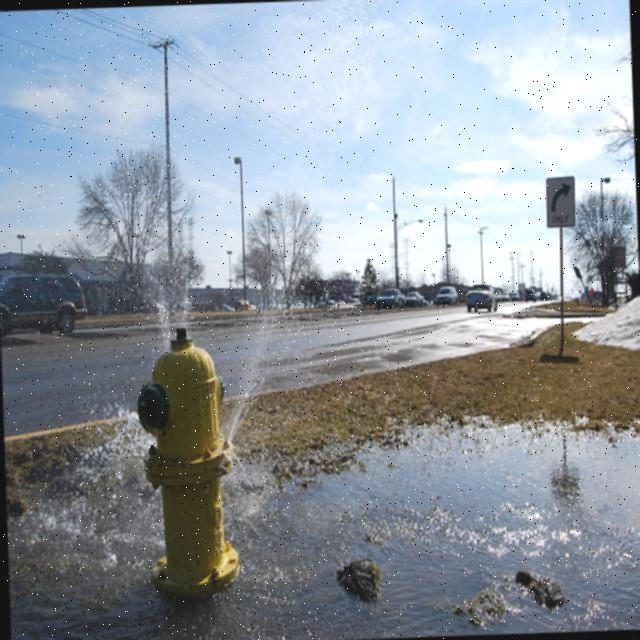fire_hydrant: (133, 324, 240, 600)
